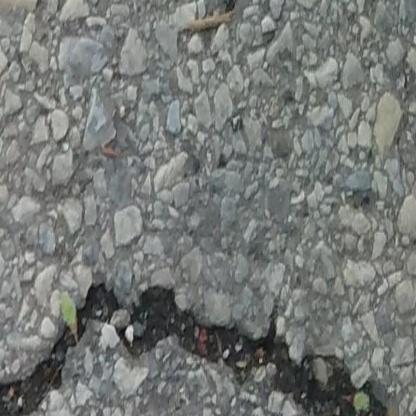Cracks: (0, 284, 405, 416)
